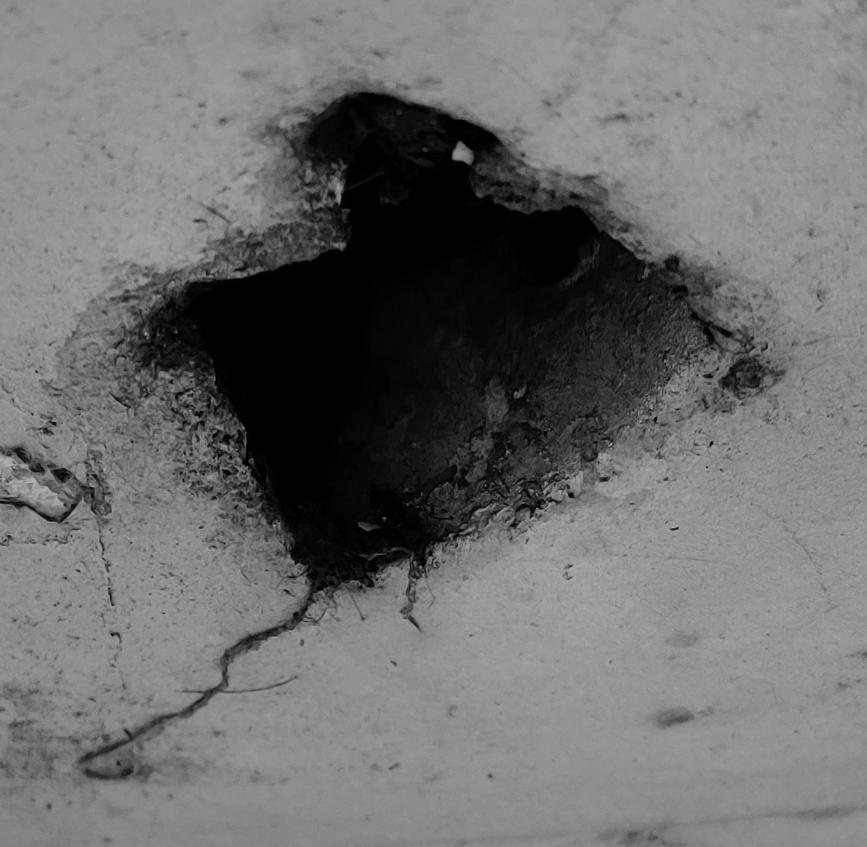crack: (1, 1, 867, 847)
